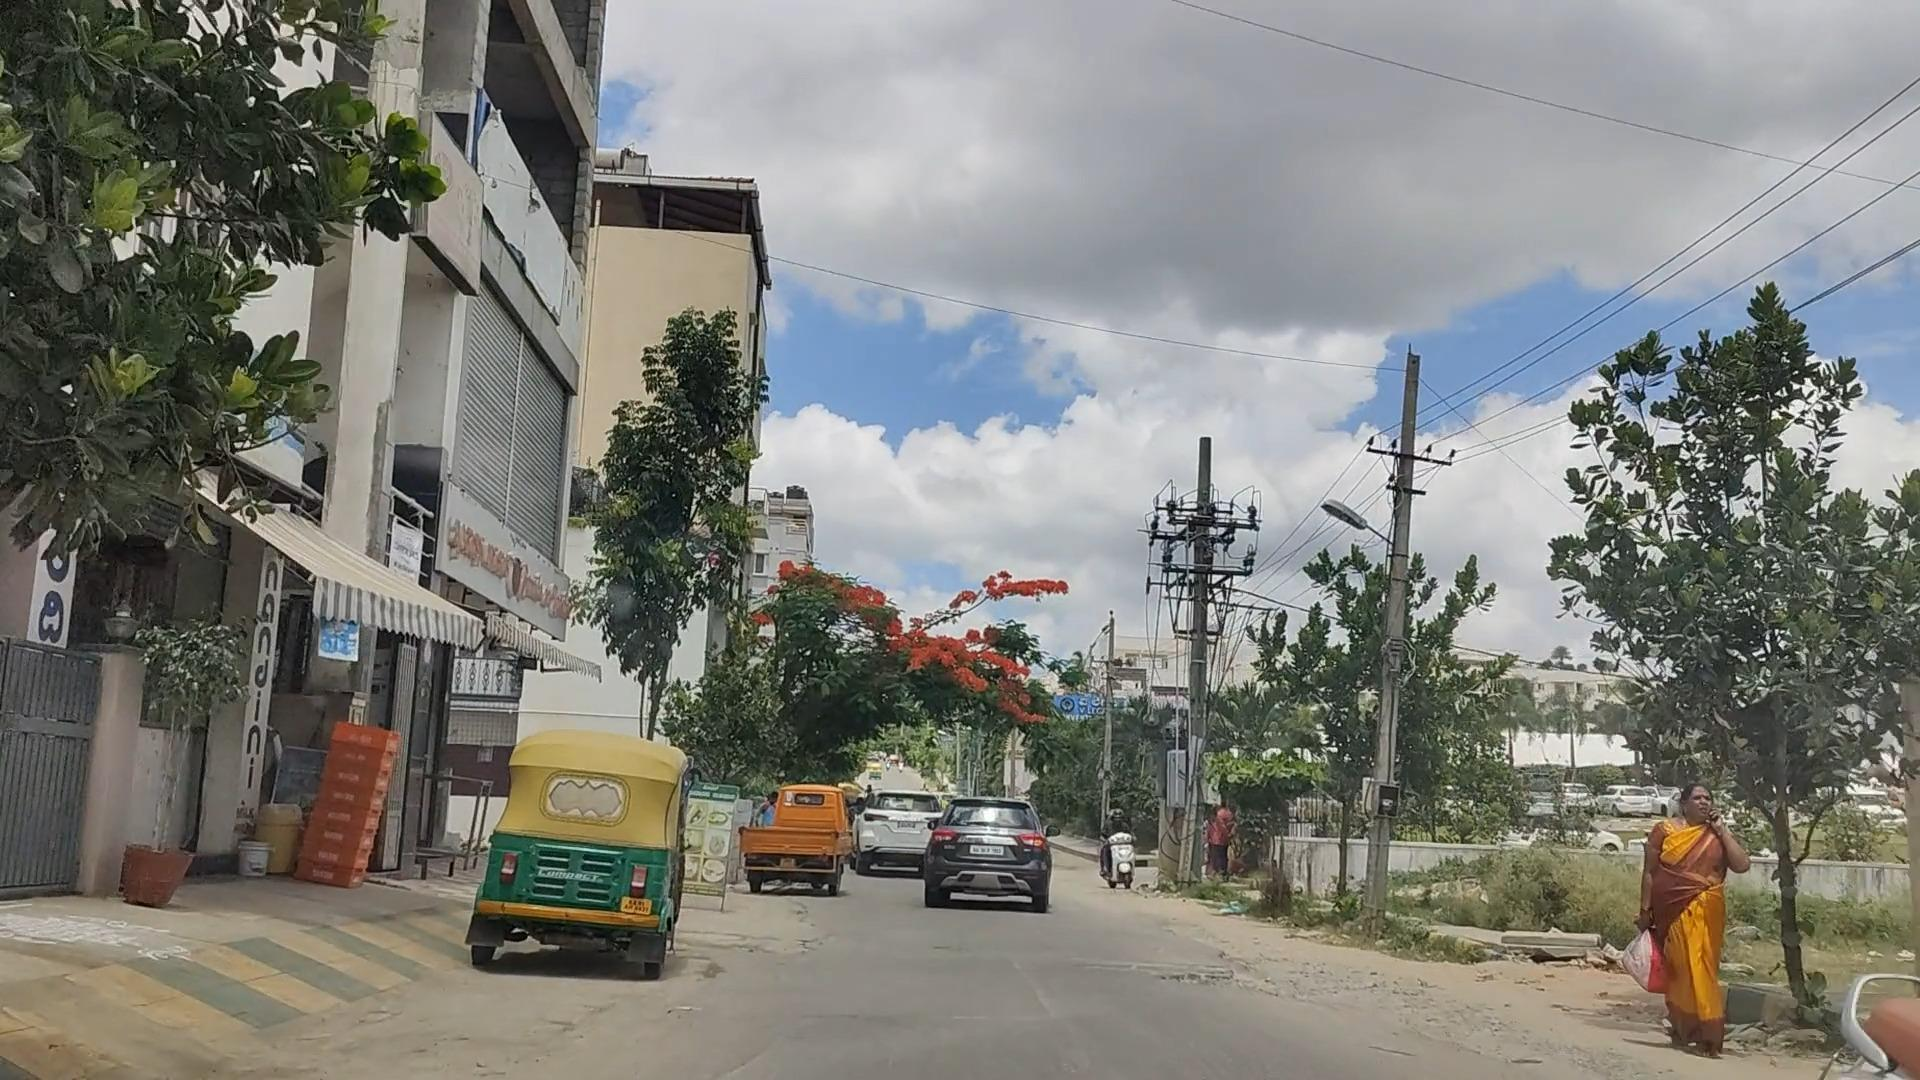RoadDamages: (1087, 914, 1353, 1033), (669, 975, 852, 1073), (1386, 998, 1561, 1080), (715, 897, 882, 965)
